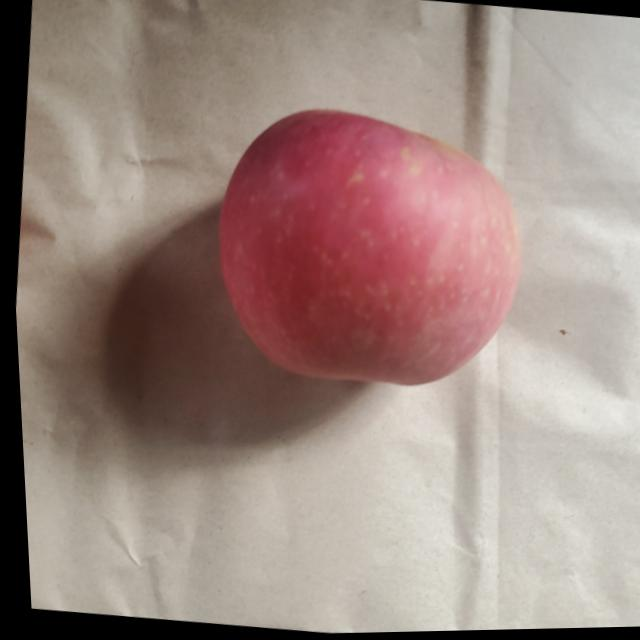apple: (200, 98, 537, 407)
